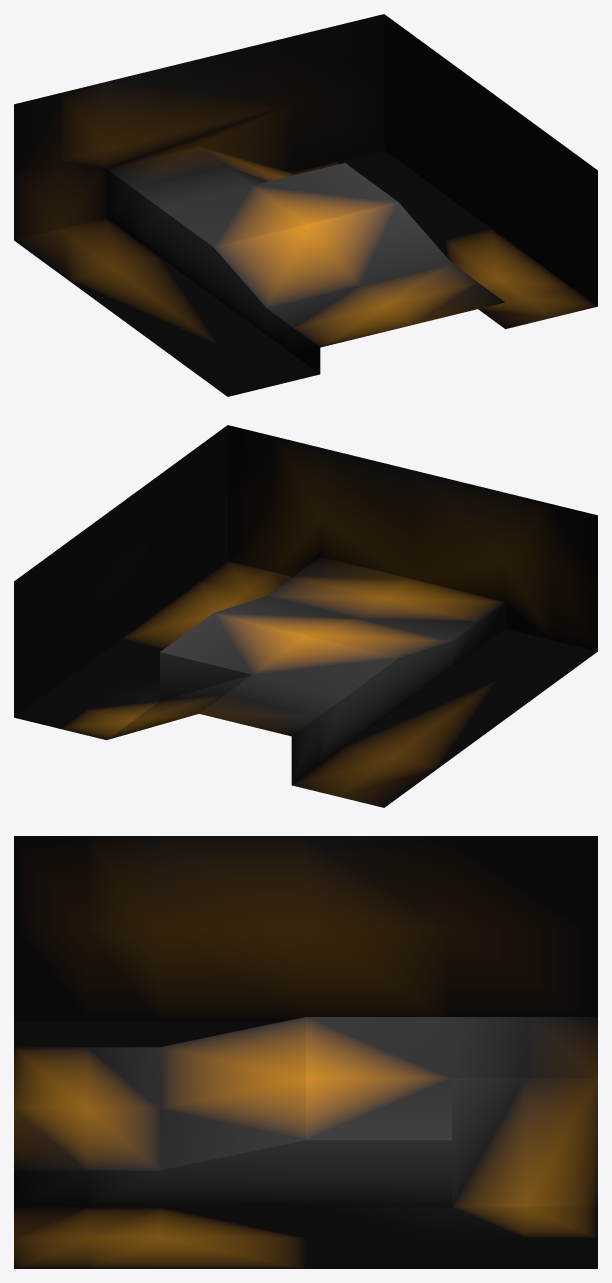
3 renders of one model, top to bottom at view 1: azimuth 30°, elevation 25°; view 2: azimuth 150°, elevation 25°; view 3: azimuth 270°, elevation 25°, orthographic. The views are drawn at different scales.
Parts seen in each view (by area): view 1: Col; view 2: Col; view 3: Col.
Part boxes in pixels (x1=…): Col: x1=14, y1=14, x2=597, y2=396; Col: x1=14, y1=425, x2=597, y2=807; Col: x1=14, y1=836, x2=597, y2=1268.
Bounding box in the file's own units: 4 × 1.41 × 4.
